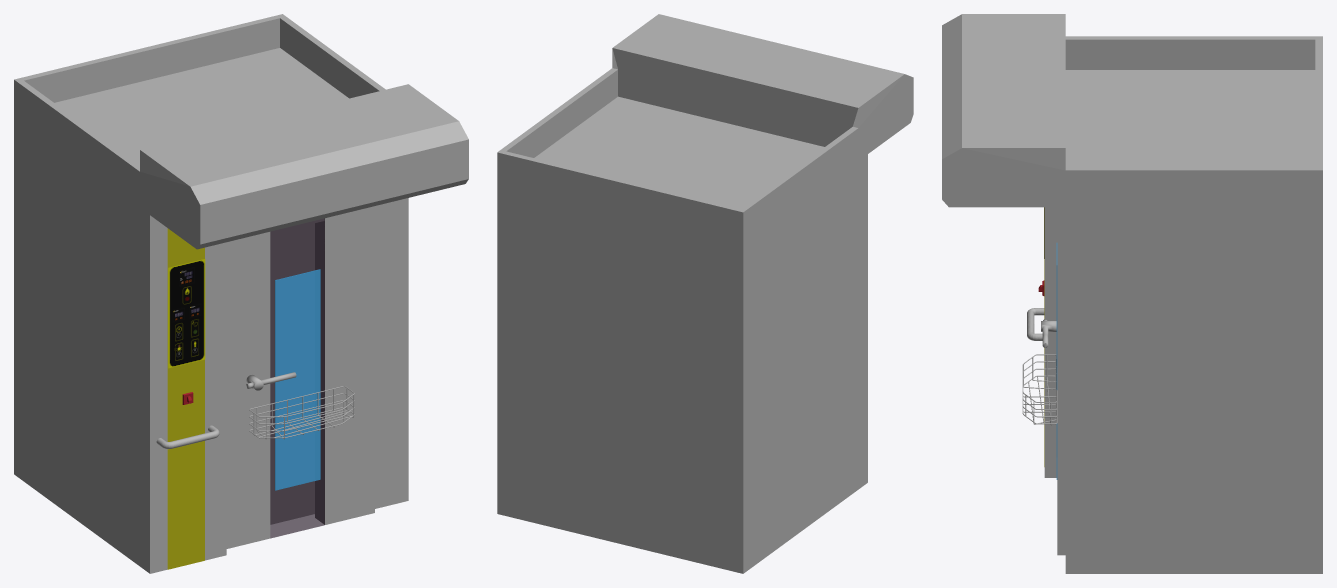
File: ESV 2 .glb
3 renders of one model, left to right at view 1: azimuth 30°, elevation 25°; view 2: azimuth 150°, elevation 25°; view 3: azimuth 270°, elevation 25°, orthographic. The views are drawn at different scales.
Parts seen in each view (by area): view 1: Cuerpo.001, Puerta, Cristal, LAMINA AMARILLA CUADRO, Cristal negro, caratula esv2, CANASTILLA; view 2: Cuerpo.001; view 3: Cuerpo.001, Puerta, CANASTILLA.
Boxes of the visible parts, bbox=[...] form: Cuerpo.001: bbox=[14, 14, 468, 573]; Puerta: bbox=[226, 206, 374, 548]; Cristal: bbox=[275, 269, 320, 490]; LAMINA AMARILLA CUADRO: bbox=[167, 228, 204, 569]; Cristal negro: bbox=[270, 218, 324, 538]; caratula esv2: bbox=[168, 259, 205, 368]; CANASTILLA: bbox=[249, 386, 354, 439]; Cuerpo.001: bbox=[497, 14, 913, 573]; Cuerpo.001: bbox=[942, 14, 1322, 573]; Puerta: bbox=[1057, 207, 1065, 555]; CANASTILLA: bbox=[1022, 354, 1057, 425].
Bounding box in the file's own units: 1.72 × 2.55 × 2.07.
7 materials, 1 textured.
